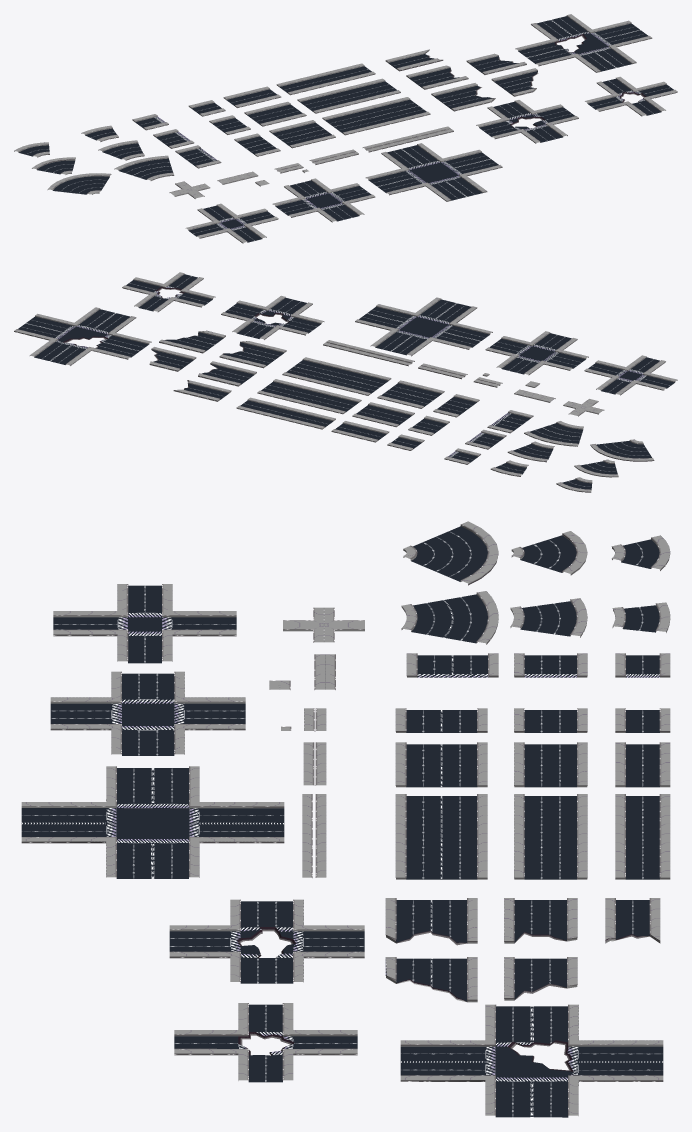
Rendered from KF_SM_RoadsKit.fbx.
3 renders of one model, top to bottom at view 1: azimuth 30°, elevation 25°; view 2: azimuth 150°, elevation 25°; view 3: azimuth 270°, elevation 25°, orthographic. The views are drawn at different scales.
Visible parts, largest first — view 1: SM_L_Xroad, SM_L_Xroad001, SM_S_Xroad (×2), SM_M_Xroad, SM_M_Xroad001, SM_L_Road3, SM_M_Road3, SM_S_Road3, SM_L_Road2, SM_L_Road091, SM_L_Road90, SM_L_Road45 (+18 smaller); view 2: SM_L_Xroad, SM_L_Xroad001, SM_S_Xroad (×2), SM_M_Xroad, SM_M_Xroad001, SM_L_Road3, SM_M_Road3, SM_S_Road3, SM_L_Road2, SM_L_Road091, SM_L_Road45, SM_L_Road90 (+19 smaller); view 3: SM_L_Xroad, SM_L_Xroad001, SM_S_Xroad (×2), SM_M_Xroad, SM_M_Xroad001, SM_L_Road3, SM_M_Road3, SM_S_Road3, SM_L_Road2, SM_L_Road091, SM_L_Road90, SM_L_Road45 (+19 smaller).
Boxes of the visible parts, x1=… form: SM_L_Xroad: x1=365, y1=143, x2=502, y2=201; SM_L_Xroad001: x1=515, y1=14, x2=652, y2=72; SM_S_Xroad (×2): x1=185, y1=76, x2=677, y2=243; SM_M_Xroad: x1=272, y1=178, x2=375, y2=222; SM_M_Xroad001: x1=476, y1=100, x2=578, y2=143; SM_L_Road3: x1=322, y1=97, x2=430, y2=135; SM_M_Road3: x1=297, y1=78, x2=400, y2=113; SM_S_Road3: x1=276, y1=63, x2=375, y2=95; SM_L_Road2: x1=269, y1=120, x2=335, y2=148; SM_L_Road091: x1=431, y1=83, x2=495, y2=111; SM_L_Road90: x1=47, y1=173, x2=111, y2=194; SM_L_Road45: x1=114, y1=155, x2=174, y2=180; SM_L_Xroad: x1=355, y1=297, x2=492, y2=356; SM_L_Xroad001: x1=14, y1=307, x2=151, y2=365; SM_S_Xroad (×2): x1=122, y1=272, x2=677, y2=395; SM_M_Xroad: x1=485, y1=331, x2=588, y2=375; SM_M_Xroad001: x1=221, y1=295, x2=324, y2=339; SM_L_Road3: x1=282, y1=357, x2=391, y2=395; SM_M_Road3: x1=257, y1=379, x2=361, y2=414; SM_S_Road3: x1=236, y1=397, x2=335, y2=429; SM_L_Road2: x1=377, y1=380, x2=444, y2=408; SM_L_Road091: x1=219, y1=341, x2=286, y2=368; SM_L_Road45: x1=524, y1=421, x2=583, y2=446; SM_L_Road90: x1=590, y1=439, x2=654, y2=461; SM_L_Xroad: x1=21, y1=766, x2=284, y2=878; SM_L_Xroad001: x1=400, y1=1004, x2=663, y2=1117; SM_S_Xroad (×2): x1=53, y1=584, x2=357, y2=1082; SM_M_Xroad: x1=50, y1=671, x2=245, y2=755; SM_M_Xroad001: x1=169, y1=899, x2=364, y2=983; SM_L_Road3: x1=395, y1=794, x2=487, y2=879; SM_M_Road3: x1=514, y1=794, x2=587, y2=879; SM_S_Road3: x1=615, y1=794, x2=670, y2=879; SM_L_Road2: x1=395, y1=742, x2=487, y2=787; SM_L_Road091: x1=385, y1=898, x2=477, y2=945; SM_L_Road90: x1=403, y1=521, x2=498, y2=585; SM_L_Road45: x1=401, y1=591, x2=498, y2=644.
Size of the model in its own units: 75246 by 247 by 34711.
